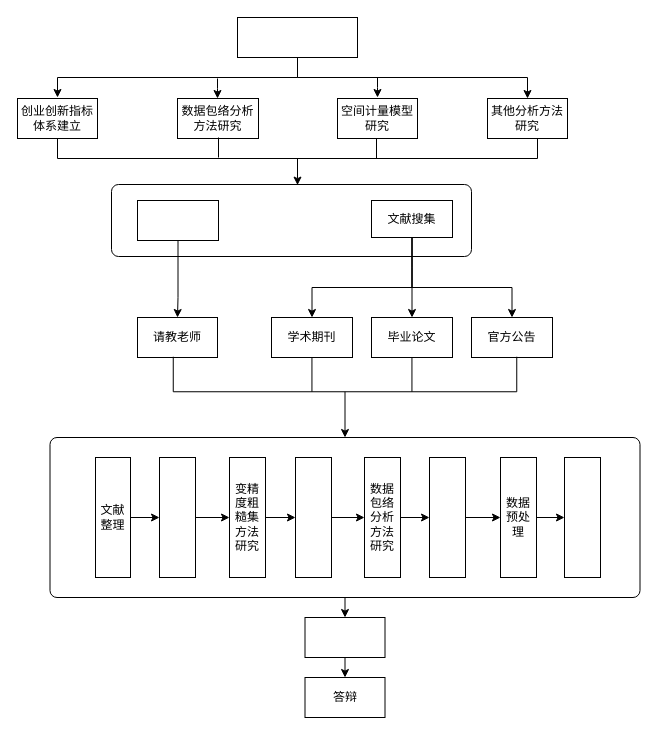
The diagram is 658 pixels wide and 735 high, and some of its shapes have lost their labels. The centre of each missing label's shape, as x and y in pixels:
"农村创业能力效率测度及其空间溢出效应" belongs at point (297, 37).
"实证研究" belongs at point (582, 517).
"指标筛选并确定最终指标体系" belongs at point (313, 517).
"撰写毕业论文" belongs at point (344, 637).
"相关分析方法研究" belongs at point (177, 517).
"研究方向探讨" belongs at point (177, 220).
"空间计量模型方法研究" belongs at point (447, 517).
